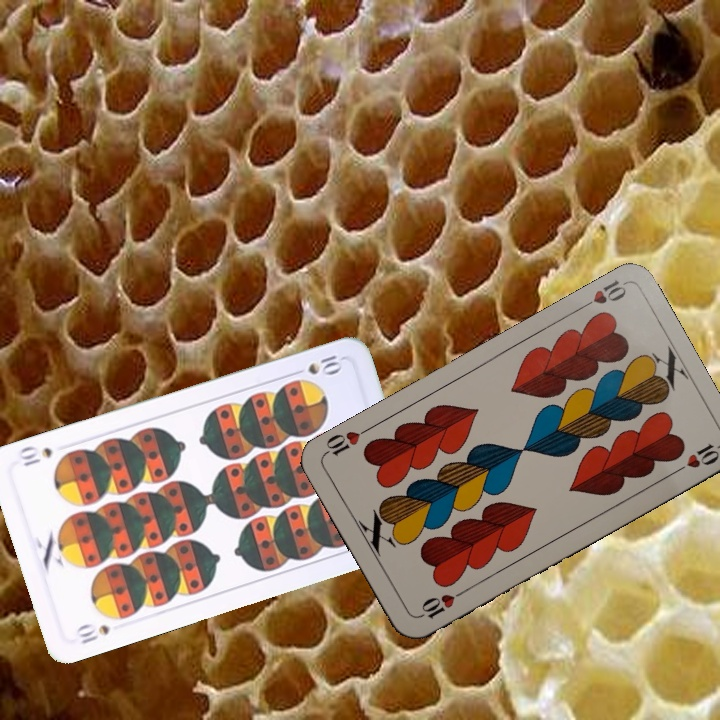H10: (574, 276, 629, 313), (414, 585, 468, 622)
S10: (287, 350, 345, 378), (72, 620, 113, 647)
